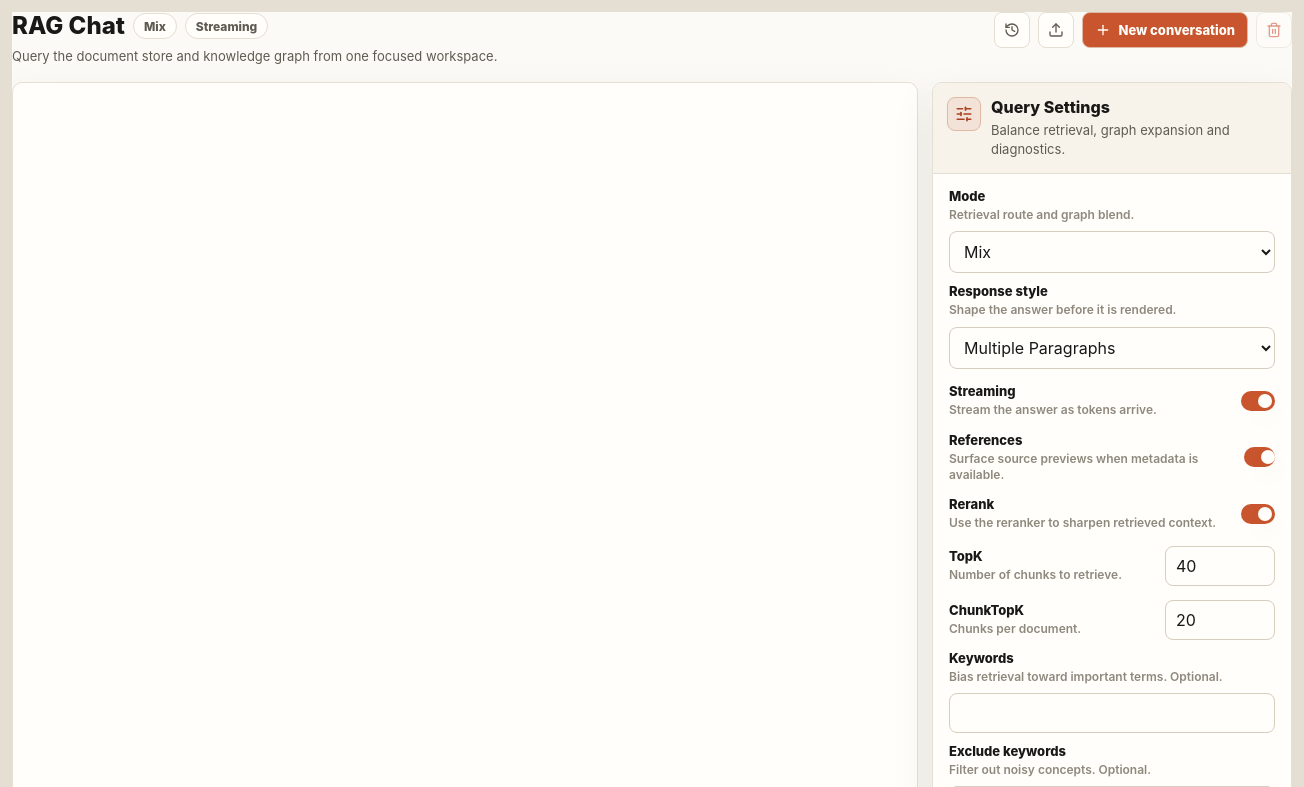
Test: RagChatWorkbench › renders only real current state chips in the workbench heading
Expected: the header is shown, x1=12 y1=12 x2=1292 y2=66
Expected: the header shows "Mix", x1=144 y1=19 x2=166 y2=34
Select "Bypass" in the dropdown labelled "Mode Retrieval route and graph blend.": (1112, 252) x1=949 y1=231 x2=1275 y2=273
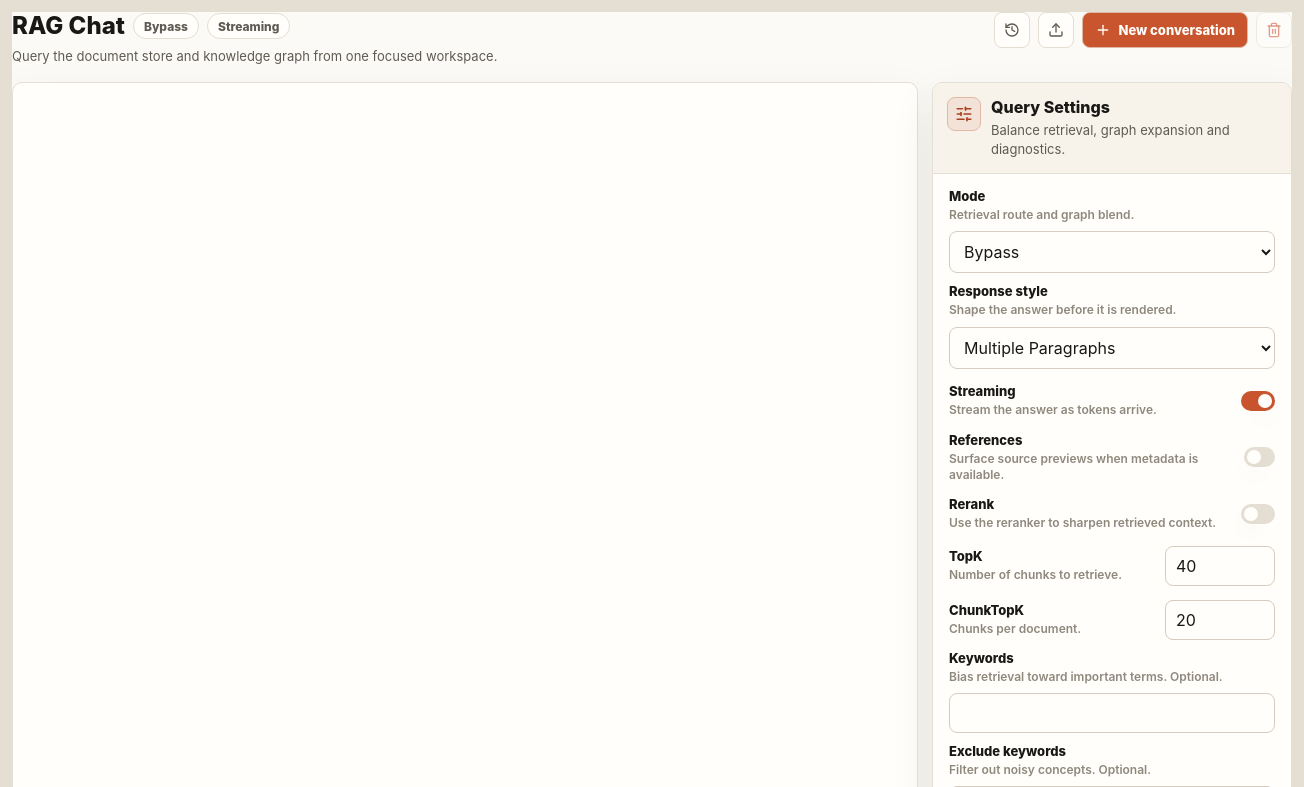
Click the checkbox labelled "Streaming Stream the answer as tokens arrive.": (1112, 400) x1=947 y1=378 x2=1277 y2=422
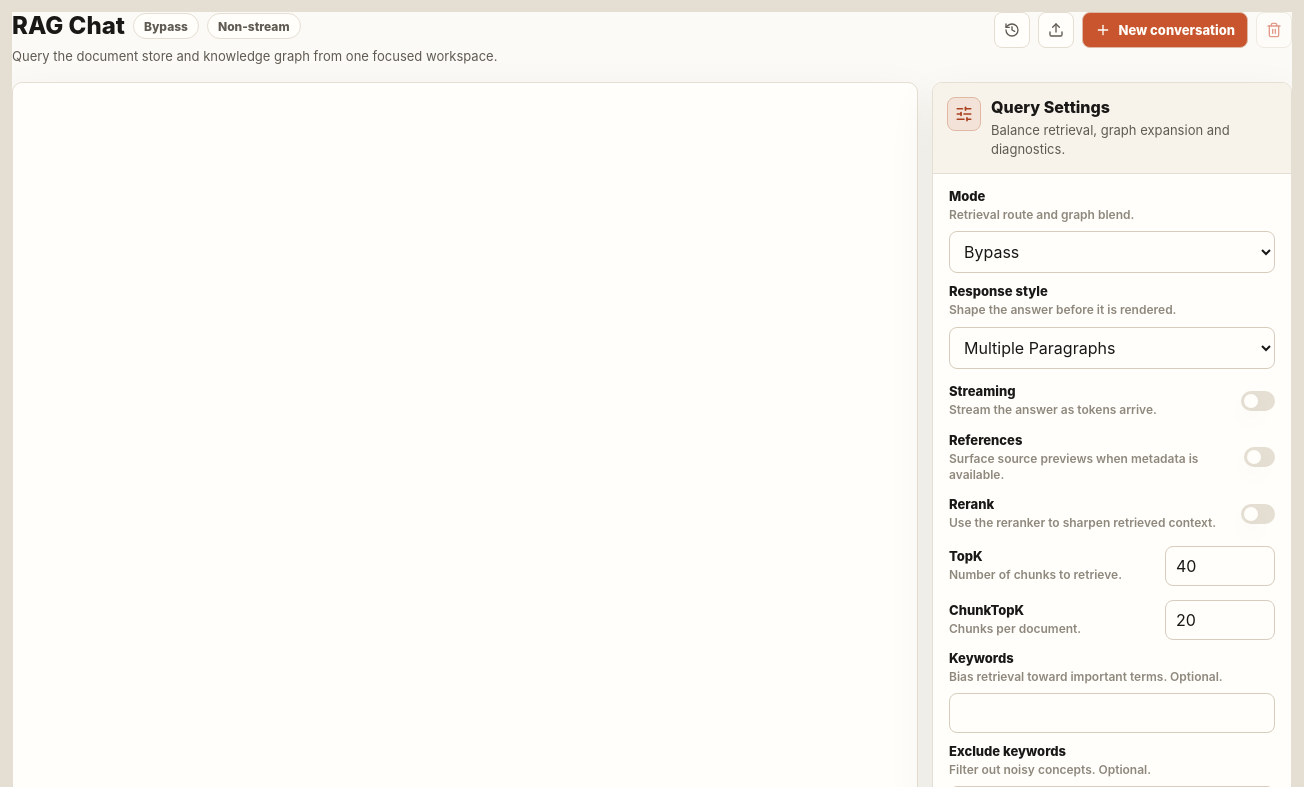
Expected: the header shows "Bypass", x1=144 y1=19 x2=188 y2=34
Expected: the header shows "Non-stream", x1=218 y1=19 x2=290 y2=34
